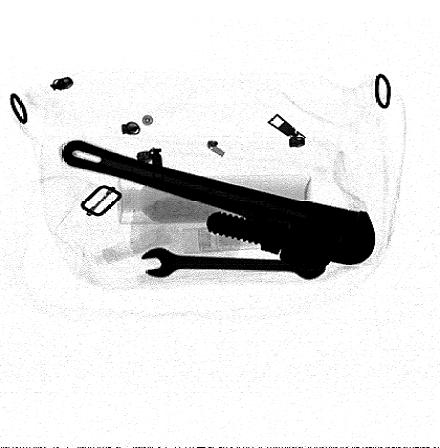Wrench: (61, 139, 379, 283), (136, 245, 331, 279)
